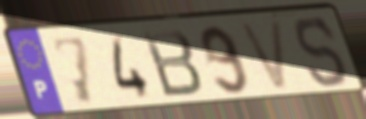4: (110, 34, 152, 100)
7: (49, 34, 97, 109)
9: (198, 24, 251, 97)
B: (139, 28, 206, 100)
S: (293, 14, 351, 91)
V: (236, 17, 291, 95)
